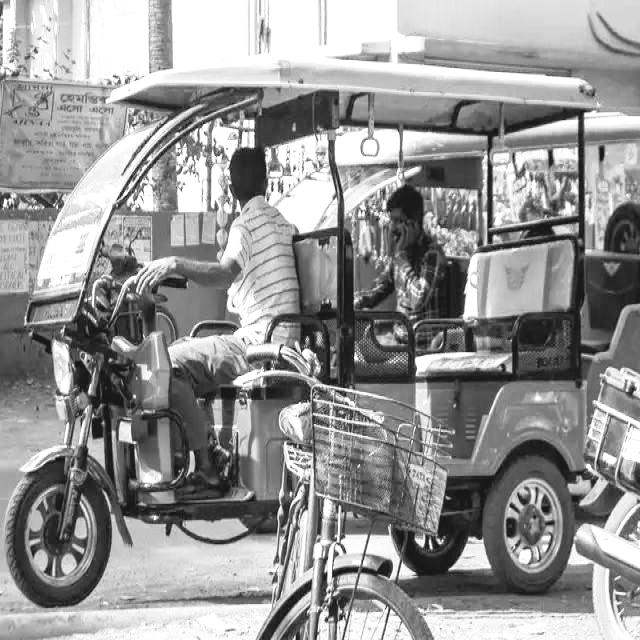Toto: (9, 51, 595, 590)
